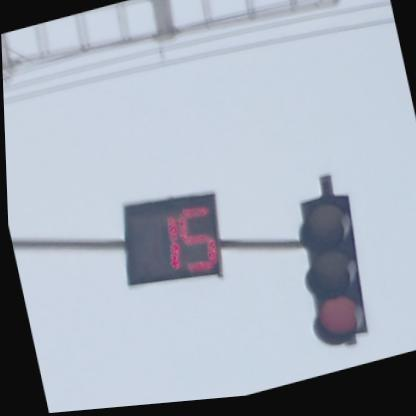red: (284, 194, 378, 356)
